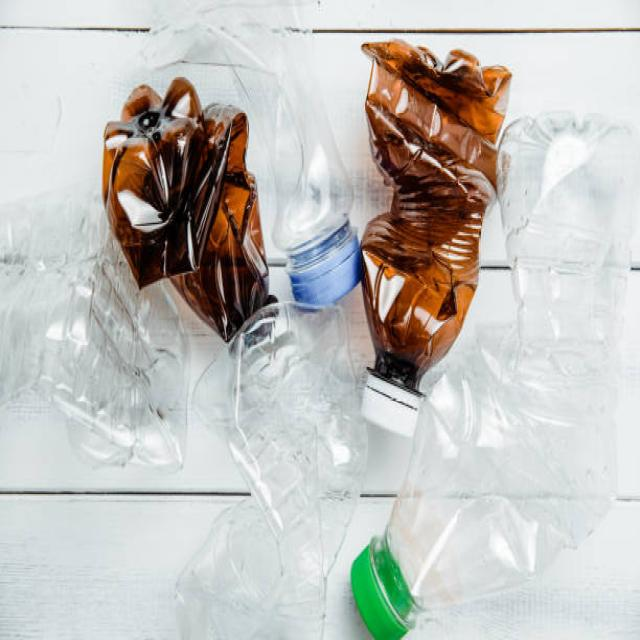plastic: (29, 44, 566, 610)
